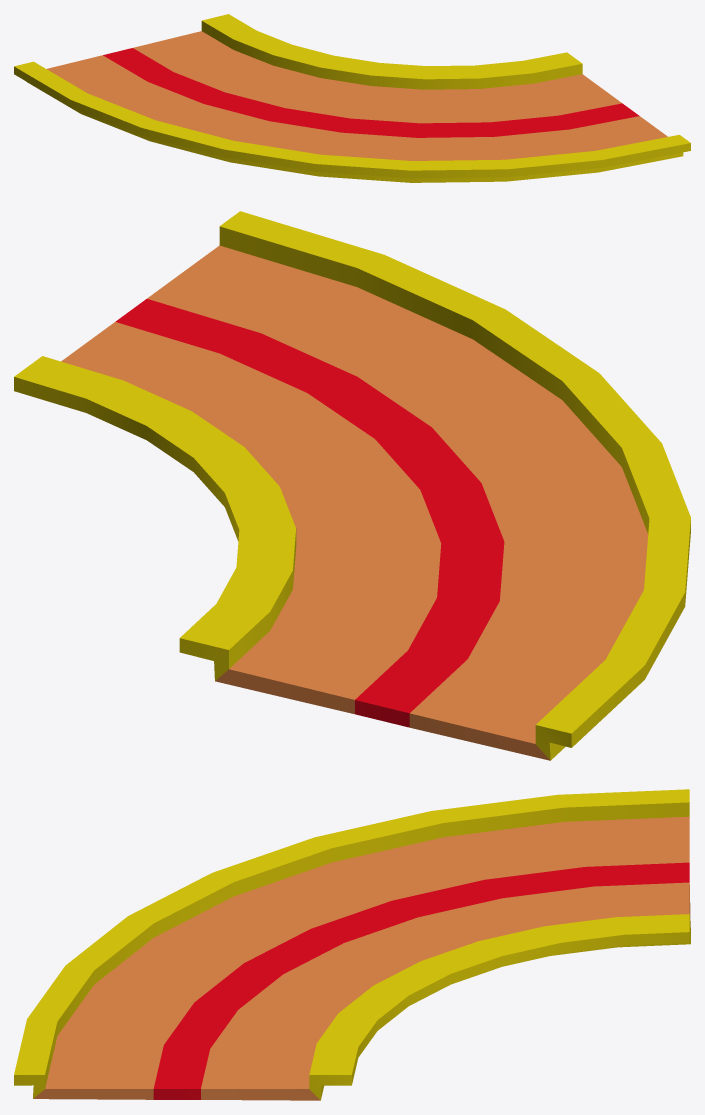
The model's file is Turn1.fbx.
3 renders of one model, top to bottom at view 1: azimuth 30°, elevation 25°; view 2: azimuth 150°, elevation 25°; view 3: azimuth 270°, elevation 25°, orthographic. The views are drawn at different scales.
Visible parts, largest first — view 1: Turn1; view 2: Turn1; view 3: Turn1.
Part boxes in pixels (x1,y1,x2,y2): Turn1: (14,14,690,182); Turn1: (14,211,690,760); Turn1: (14,789,690,1100).
Bounding box in the file's own units: 401 × 16.58 × 401.
